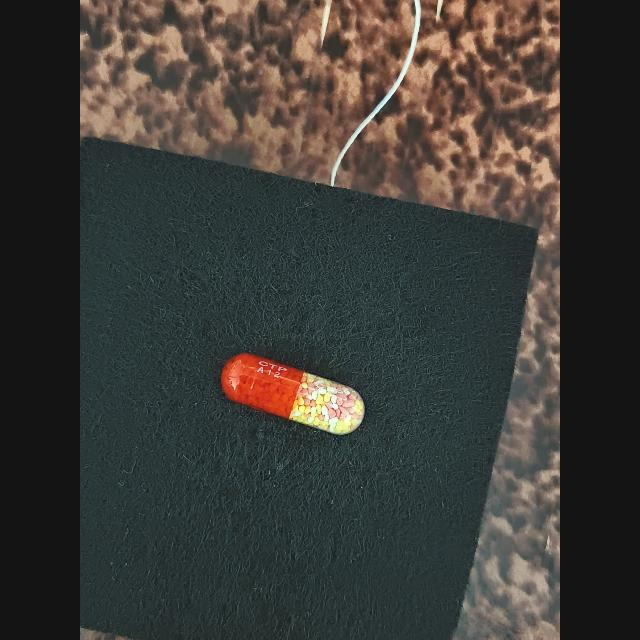Intact Capsule: (221, 353, 365, 435)
